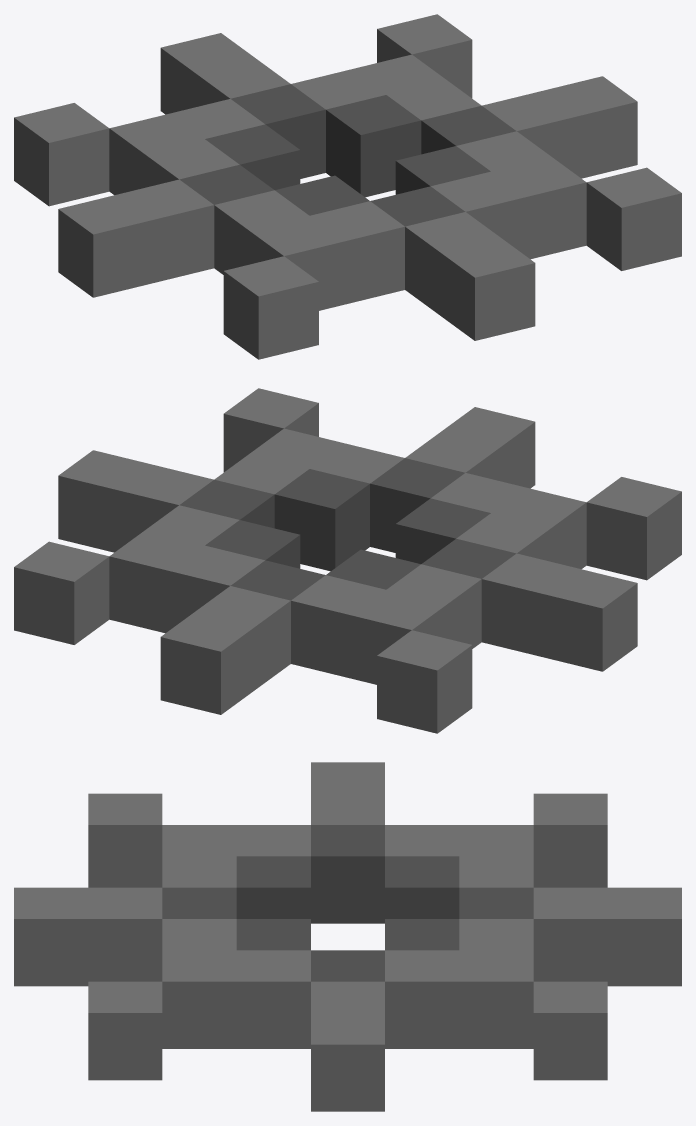
Rendered from Robot_vox-1-8.obj.
The picture shows the model from 3 angles, top to bottom: view 1: azimuth 30°, elevation 25°; view 2: azimuth 150°, elevation 25°; view 3: azimuth 270°, elevation 25°; orthographic projection. The views are drawn at different scales.
Bounding box in the file's own units: 0.9 × 0.1 × 0.9.
1 material, 1 textured.
